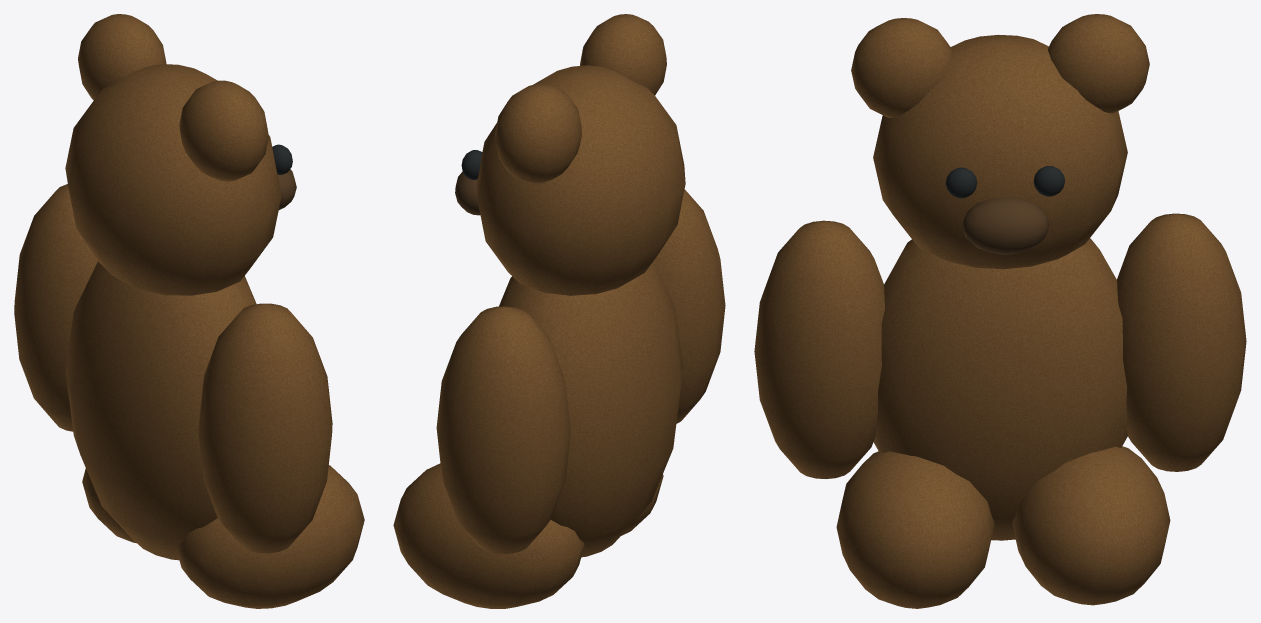
File: SM_TeddyPrize_42d0279239.fbx
3 views of the same model, side by side, from view 1: azimuth 30°, elevation 25°; view 2: azimuth 150°, elevation 25°; view 3: azimuth 270°, elevation 25° (orthographic). The views are drawn at different scales.
Visible parts, largest first — view 1: SM_TeddyPrize_42d0279239; view 2: SM_TeddyPrize_42d0279239; view 3: SM_TeddyPrize_42d0279239.
Part boxes in pixels (x1=…): SM_TeddyPrize_42d0279239: x1=14, y1=14, x2=364, y2=608; SM_TeddyPrize_42d0279239: x1=393, y1=14, x2=725, y2=608; SM_TeddyPrize_42d0279239: x1=754, y1=14, x2=1246, y2=608.
Size of what is drawn, in the model's own units: 32.05 by 57 by 70.31.
3 materials, 1 textured.
